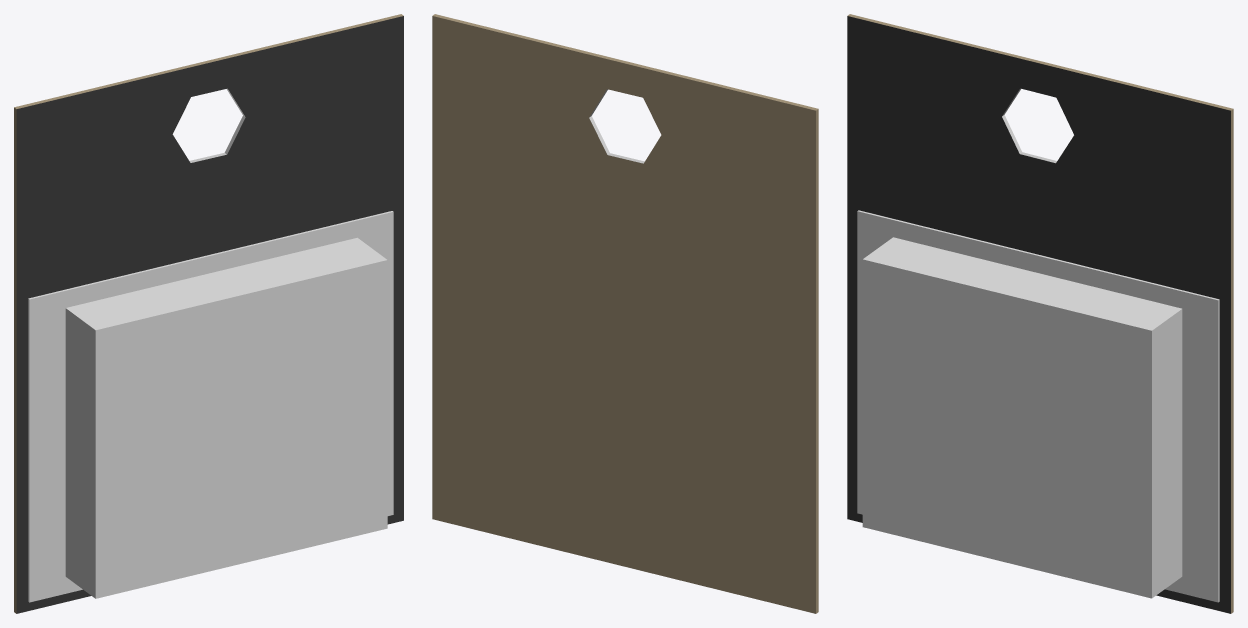
File: Ma_Batteries.fbx
3 views of the same model, side by side, from view 1: azimuth 30°, elevation 25°; view 2: azimuth 150°, elevation 25°; view 3: azimuth 330°, elevation 25° (orthographic).
Visible parts, largest first — view 1: Ma_Batteries; view 2: Ma_Batteries; view 3: Ma_Batteries.
Part boxes in pixels (x1,y1,x2,y2): Ma_Batteries: (14,14,403,613); Ma_Batteries: (432,14,818,613); Ma_Batteries: (847,14,1233,613).
Bounding box in the file's own units: 88.41 × 14.02 × 110.
